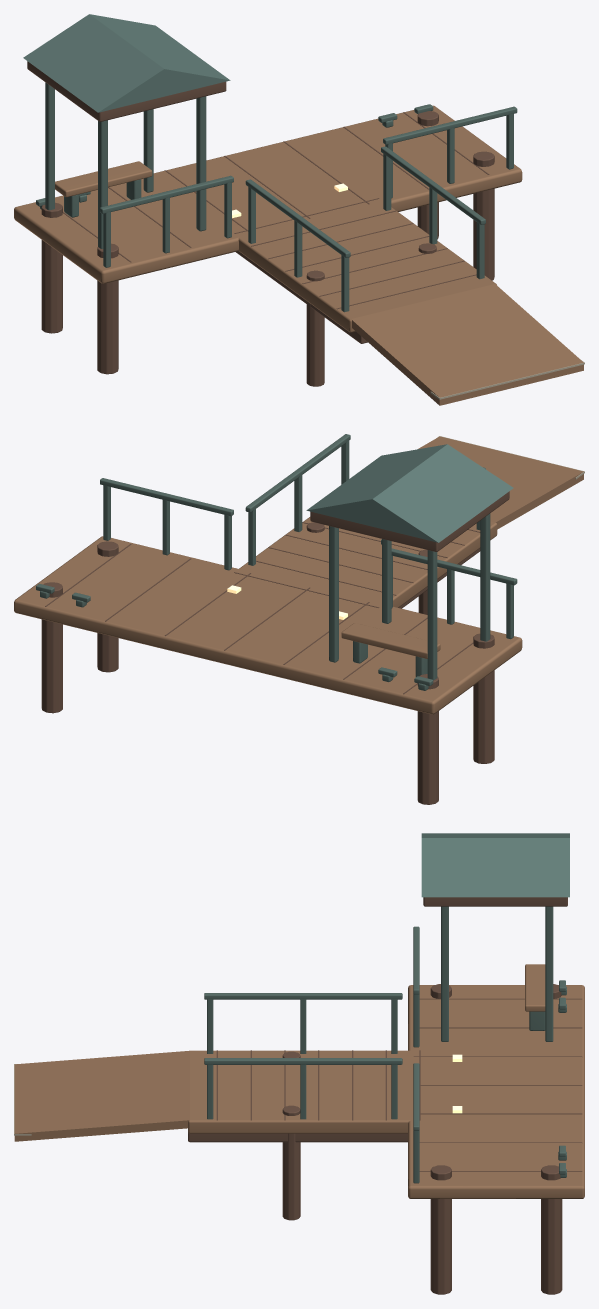
The model's file is pier.glb.
3 views of the same model, one above another, from view 1: azimuth 30°, elevation 25°; view 2: azimuth 150°, elevation 25°; view 3: azimuth 270°, elevation 25° (orthographic).
Parts seen in each view (by area): view 1: pier_Boarding_Head, pier_Deck_Stem, pier_Quay_Ramp, pier_Gable_Roof, pier_Timber_Pile.001, pier_Timber_Pile, pier_Shelter_Fascia, pier_Timber_Pile.003, pier_Stem_Pile, pier_Shelter_Bench, pier_Shelter_Post.003, pier_Shelter_Post (+8 smaller); view 2: pier_Boarding_Head, pier_Gable_Roof, pier_Deck_Stem, pier_Quay_Ramp, pier_Timber_Pile.002, pier_Timber_Pile, pier_Timber_Pile.001, pier_Shelter_Fascia, pier_Shelter_Bench, pier_Shelter_Post, pier_Shelter_Post.001, pier_Shelter_Post.002 (+6 smaller); view 3: pier_Boarding_Head, pier_Deck_Stem, pier_Quay_Ramp, pier_Gable_Roof, pier_Timber_Pile.003, pier_Timber_Pile.002, pier_Deck_Stringer.001, pier_Stem_Pile.001, pier_Shelter_Fascia, pier_Stem_Handrail.001, pier_Stem_Handrail, pier_Shelter_Post.002 (+2 smaller).
Boxes of the visible parts, box(x1,y1,x2,y2) form: pier_Boarding_Head: box(14, 105, 522, 283); pier_Deck_Stem: box(232, 190, 496, 332); pier_Quay_Ramp: box(351, 284, 583, 405); pier_Gable_Roof: box(23, 14, 230, 112); pier_Timber_Pile.001: box(97, 243, 118, 374); pier_Timber_Pile: box(41, 202, 62, 333); pier_Shelter_Fascia: box(27, 61, 226, 121); pier_Timber_Pile.003: box(473, 151, 494, 280); pier_Stem_Pile: box(306, 270, 324, 386); pier_Shelter_Bench: box(55, 161, 152, 197); pier_Shelter_Post.003: box(196, 96, 206, 231); pier_Shelter_Post: box(45, 82, 54, 210); pier_Boarding_Head: box(14, 536, 522, 714); pier_Gable_Roof: box(306, 444, 513, 542); pier_Deck_Stem: box(239, 517, 497, 615); pier_Quay_Ramp: box(418, 436, 583, 529); pier_Timber_Pile.002: box(41, 582, 62, 713); pier_Timber_Pile: box(417, 674, 438, 804); pier_Timber_Pile.001: box(473, 633, 494, 763); pier_Shelter_Fascia: box(310, 491, 509, 551); pier_Shelter_Bench: box(341, 623, 440, 658); pier_Shelter_Post: box(427, 550, 437, 680); pier_Shelter_Post.001: box(480, 513, 490, 641); pier_Shelter_Post.002: box(329, 526, 338, 662); pier_Boarding_Head: box(408, 985, 584, 1198); pier_Deck_Stem: box(188, 1050, 442, 1133); pier_Quay_Ramp: box(14, 1050, 189, 1141); pier_Gable_Roof: box(421, 833, 569, 897); pier_Timber_Pile.003: box(430, 1165, 451, 1294); pier_Timber_Pile.002: box(541, 1165, 562, 1294); pier_Deck_Stringer.001: box(188, 1132, 407, 1142); pier_Stem_Pile.001: box(282, 1105, 300, 1220); pier_Shelter_Fascia: box(423, 897, 567, 906); pier_Stem_Handrail.001: box(204, 1058, 402, 1064); pier_Stem_Handrail: box(204, 993, 402, 999); pier_Shelter_Post.002: box(545, 906, 553, 1041).
Size of the model in its own units: 6.54 by 4.41 by 7.77.
